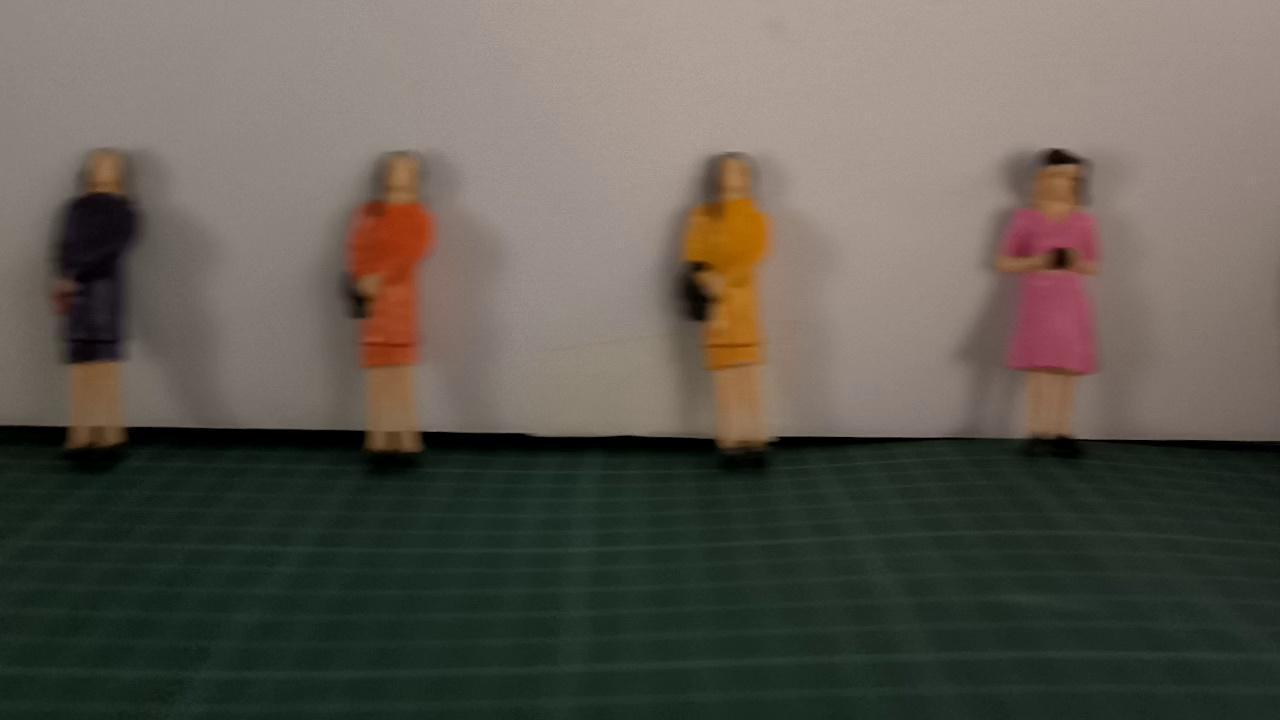human: (666, 149, 787, 464), (338, 140, 443, 479), (39, 140, 146, 471), (995, 144, 1103, 465)
